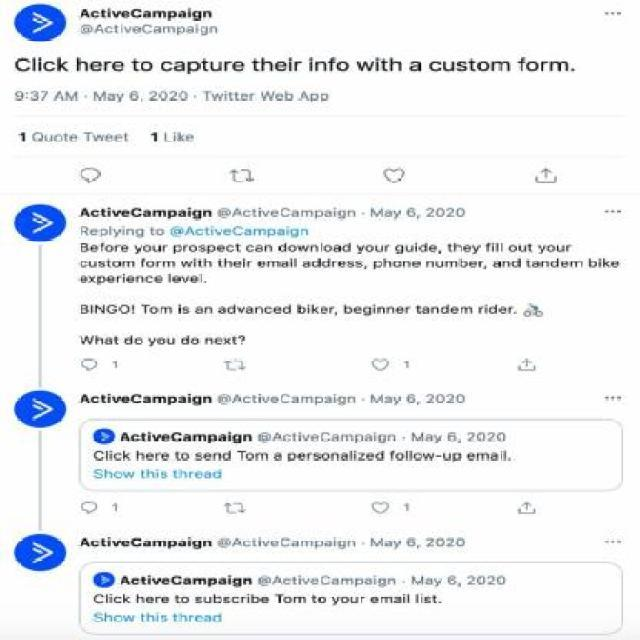0: (158, 91, 168, 100), (436, 538, 446, 547), (497, 432, 506, 441), (476, 576, 486, 584), (180, 91, 188, 100), (436, 208, 444, 217), (456, 208, 464, 217), (437, 394, 445, 403), (457, 394, 465, 403), (478, 432, 486, 441), (456, 538, 464, 547), (497, 576, 506, 584)
1: (20, 132, 26, 142), (151, 132, 157, 142), (111, 503, 118, 511), (114, 360, 118, 368), (404, 360, 408, 368), (404, 503, 408, 511)
2: (426, 536, 436, 547), (447, 394, 455, 404), (149, 91, 157, 100), (170, 91, 178, 100), (427, 208, 435, 217), (447, 208, 455, 217), (427, 394, 435, 403), (468, 432, 476, 441), (488, 432, 496, 441), (447, 538, 455, 547), (467, 576, 476, 584), (488, 576, 496, 584)
3: (31, 92, 38, 100)
6: (448, 432, 457, 442), (130, 91, 139, 100), (407, 208, 416, 217), (407, 394, 416, 403), (407, 538, 416, 547), (448, 576, 456, 584)
7: (40, 91, 49, 100)
9: (14, 90, 24, 102)
A: (172, 60, 185, 72), (409, 60, 422, 72), (270, 432, 284, 442), (78, 8, 91, 18), (78, 394, 91, 404), (78, 208, 91, 217), (119, 432, 130, 442), (184, 227, 196, 236), (53, 91, 64, 100), (232, 394, 242, 403), (299, 92, 310, 100), (79, 538, 90, 546), (120, 576, 131, 584), (233, 208, 242, 217), (142, 210, 152, 218), (142, 396, 152, 404), (142, 539, 152, 547), (182, 578, 192, 586), (232, 538, 242, 546), (178, 10, 187, 18), (178, 210, 187, 218), (244, 306, 253, 314), (104, 337, 113, 345), (178, 539, 187, 547), (218, 578, 227, 586), (95, 25, 104, 33), (273, 576, 282, 584), (153, 26, 161, 34), (187, 26, 195, 34), (108, 93, 116, 101), (292, 210, 300, 218), (324, 210, 332, 218), (384, 210, 392, 218), (244, 228, 252, 236), (277, 228, 285, 236), (280, 260, 288, 268), (302, 260, 310, 268), (493, 260, 501, 268), (532, 260, 540, 268), (195, 306, 203, 314), (218, 306, 226, 314), (178, 396, 186, 404), (290, 396, 298, 404), (384, 396, 392, 404), (183, 434, 191, 442), (218, 434, 226, 442), (364, 434, 372, 442), (425, 434, 433, 442), (274, 452, 282, 460), (490, 452, 498, 460), (292, 539, 300, 547), (324, 540, 332, 548), (384, 539, 392, 547), (364, 578, 372, 586), (424, 578, 432, 586), (394, 596, 402, 604), (203, 614, 211, 622), (142, 12, 152, 18), (255, 245, 263, 252), (333, 245, 341, 252), (422, 306, 429, 314), (332, 434, 339, 442), (341, 452, 348, 460), (204, 471, 212, 478), (332, 578, 339, 586), (324, 397, 332, 403)
B: (213, 593, 222, 604), (297, 304, 306, 314), (251, 594, 260, 604), (80, 304, 89, 314), (284, 91, 292, 100), (80, 243, 88, 252), (459, 258, 467, 267), (589, 258, 597, 267), (344, 304, 352, 313)
C: (15, 56, 30, 72), (42, 60, 56, 72), (159, 60, 173, 72), (428, 60, 442, 72), (130, 8, 142, 18), (130, 394, 142, 403), (170, 432, 182, 441), (130, 537, 142, 546), (279, 208, 290, 217), (232, 227, 243, 236), (280, 394, 291, 403), (94, 594, 105, 603), (142, 24, 152, 33), (132, 208, 142, 217), (319, 432, 330, 440), (279, 538, 290, 546), (320, 576, 331, 584), (94, 451, 103, 460), (78, 260, 88, 268), (144, 275, 154, 283), (282, 434, 292, 442), (242, 539, 252, 547), (282, 578, 292, 586), (172, 576, 182, 584), (91, 10, 100, 18), (104, 25, 113, 33), (91, 209, 100, 217), (264, 306, 273, 314), (90, 395, 99, 403), (131, 434, 140, 442), (113, 452, 122, 460), (91, 539, 100, 547), (131, 578, 140, 586), (231, 596, 240, 604), (243, 209, 251, 217), (242, 395, 250, 403), (114, 596, 122, 604), (194, 228, 203, 235), (226, 245, 234, 252), (246, 245, 254, 252)
D: (124, 334, 133, 346), (418, 242, 428, 252), (282, 304, 292, 314), (212, 612, 222, 622), (278, 242, 287, 252), (180, 334, 189, 344), (212, 469, 222, 478), (312, 258, 321, 267), (489, 304, 497, 314), (342, 243, 350, 252), (322, 258, 330, 267), (512, 258, 520, 267), (550, 258, 558, 267), (376, 451, 384, 460), (441, 304, 448, 314), (228, 304, 235, 313), (222, 452, 230, 459)
E: (274, 60, 288, 72), (112, 60, 125, 72), (232, 60, 245, 72), (90, 60, 102, 72), (232, 260, 242, 268), (78, 275, 88, 283), (126, 275, 136, 283), (144, 452, 154, 460), (121, 10, 130, 18), (105, 134, 114, 142), (114, 134, 123, 142), (184, 134, 193, 142), (121, 210, 130, 218), (190, 275, 199, 283), (214, 337, 223, 345), (121, 396, 130, 404), (161, 434, 170, 442), (161, 452, 170, 460), (121, 539, 130, 547), (240, 92, 248, 100), (275, 93, 283, 101), (70, 134, 78, 142), (270, 210, 278, 218), (223, 228, 231, 236), (258, 260, 266, 268), (338, 260, 346, 268), (412, 260, 420, 268), (560, 260, 568, 268), (612, 260, 620, 268), (154, 275, 162, 283), (274, 306, 282, 314), (320, 306, 328, 314), (354, 306, 362, 314), (396, 306, 404, 314), (498, 306, 506, 314), (270, 396, 278, 404), (310, 434, 318, 442), (204, 452, 212, 460), (298, 452, 306, 460), (367, 452, 375, 460), (468, 452, 476, 460), (270, 539, 278, 547), (162, 578, 170, 586), (310, 578, 318, 586), (145, 596, 153, 604), (162, 596, 170, 604), (260, 596, 268, 604), (217, 245, 226, 252), (468, 261, 478, 267), (90, 245, 98, 252), (120, 245, 128, 252), (429, 245, 437, 252), (464, 245, 472, 252), (451, 307, 458, 315), (371, 596, 378, 604), (195, 614, 202, 622), (106, 276, 115, 282), (195, 471, 202, 478), (132, 27, 140, 33), (90, 230, 98, 236), (172, 276, 180, 282)
F: (518, 56, 526, 72), (328, 58, 336, 72), (486, 242, 492, 252), (140, 258, 146, 267), (99, 242, 104, 252), (390, 450, 395, 459)
G: (232, 433, 242, 444), (107, 304, 118, 314), (134, 228, 144, 238), (192, 210, 202, 219), (290, 228, 299, 238), (232, 578, 242, 587), (200, 26, 208, 36), (364, 306, 372, 316), (192, 396, 200, 406), (338, 396, 346, 406), (378, 434, 386, 444), (192, 540, 202, 548), (192, 11, 200, 20), (338, 210, 346, 219), (338, 540, 346, 549), (378, 578, 386, 587), (395, 246, 403, 254)
H: (260, 58, 274, 72), (389, 58, 402, 72), (77, 58, 88, 72), (203, 258, 212, 267), (454, 242, 462, 252), (179, 612, 187, 622), (147, 612, 155, 622), (224, 258, 232, 267), (384, 258, 392, 267), (147, 469, 155, 478), (179, 469, 187, 478), (137, 594, 145, 603), (104, 613, 112, 622), (95, 336, 103, 344), (104, 470, 112, 478), (137, 452, 145, 459)
I: (288, 58, 292, 72), (310, 58, 313, 72), (376, 57, 379, 71), (414, 242, 418, 252), (122, 227, 126, 236), (598, 258, 602, 267), (122, 273, 126, 282), (484, 304, 488, 313), (402, 594, 406, 603), (38, 56, 40, 72), (173, 132, 176, 142), (194, 258, 197, 268), (110, 594, 113, 604), (91, 304, 94, 314), (120, 24, 123, 33), (224, 91, 227, 100), (333, 208, 336, 217), (211, 227, 214, 236), (243, 258, 246, 267), (290, 258, 293, 267), (307, 304, 310, 313), (373, 304, 376, 313), (373, 432, 376, 441), (110, 451, 113, 460), (353, 450, 356, 459), (333, 538, 336, 547), (247, 594, 250, 603), (420, 594, 423, 603), (333, 394, 336, 403), (148, 574, 150, 586), (188, 207, 190, 218), (286, 226, 288, 237), (108, 393, 110, 404), (228, 431, 230, 442), (108, 537, 110, 548), (108, 8, 110, 18), (188, 8, 190, 18), (156, 612, 158, 622), (108, 207, 110, 216), (258, 208, 260, 217), (492, 243, 494, 252), (178, 304, 180, 313), (188, 394, 190, 403), (148, 432, 150, 441), (156, 469, 158, 478), (188, 538, 190, 547), (258, 394, 260, 403), (196, 24, 198, 32), (298, 432, 300, 440), (258, 538, 260, 546), (228, 576, 230, 584), (298, 576, 300, 584), (374, 576, 376, 584), (500, 452, 502, 459)
K: (56, 58, 70, 72), (312, 304, 320, 314), (122, 451, 130, 460), (602, 258, 610, 267), (178, 132, 184, 142), (124, 594, 130, 603)
L: (164, 132, 172, 142), (32, 58, 36, 72), (500, 242, 503, 252), (294, 258, 297, 267), (503, 450, 506, 459), (105, 594, 108, 603), (407, 594, 410, 603), (105, 451, 108, 458), (320, 242, 322, 252), (496, 242, 498, 252), (110, 227, 112, 236), (168, 273, 170, 282), (200, 274, 202, 283), (350, 450, 352, 459), (416, 594, 418, 603), (406, 451, 408, 458), (410, 451, 412, 458)
M: (549, 60, 568, 72), (492, 60, 510, 72), (410, 432, 424, 442), (151, 10, 167, 18), (92, 91, 106, 100), (371, 208, 384, 217), (152, 210, 166, 218), (300, 210, 314, 218), (252, 228, 266, 236), (122, 260, 136, 268), (459, 306, 473, 314), (152, 395, 166, 403), (192, 434, 206, 442), (340, 434, 354, 442), (256, 452, 270, 460), (476, 452, 490, 460), (152, 539, 166, 547), (300, 540, 314, 548), (292, 596, 306, 604), (64, 92, 78, 100), (162, 260, 175, 268), (371, 395, 384, 403), (371, 538, 384, 546), (411, 577, 424, 585), (570, 260, 582, 268), (380, 596, 392, 604), (162, 26, 176, 32), (266, 261, 280, 267), (444, 261, 458, 267), (300, 397, 314, 403), (192, 578, 206, 584), (340, 578, 354, 584), (159, 307, 172, 313)
N: (314, 60, 328, 72), (95, 304, 104, 314), (202, 10, 212, 18), (203, 209, 212, 217), (243, 434, 252, 442), (243, 578, 252, 586), (210, 26, 218, 34), (348, 210, 356, 218), (300, 228, 308, 236), (402, 260, 410, 268), (502, 260, 510, 268), (135, 275, 143, 283), (255, 306, 263, 314), (377, 306, 385, 314), (387, 306, 395, 314), (205, 338, 213, 346), (203, 539, 211, 547), (202, 396, 212, 402), (310, 245, 318, 252), (205, 306, 212, 314), (432, 306, 439, 314), (126, 230, 134, 236), (264, 246, 272, 252), (426, 261, 434, 267), (542, 261, 550, 267), (348, 397, 356, 403), (388, 434, 396, 440), (213, 453, 221, 459), (348, 540, 356, 546), (388, 578, 396, 584), (332, 453, 339, 459)
O: (336, 60, 350, 72), (476, 60, 490, 72), (526, 60, 540, 72), (139, 62, 153, 72), (118, 304, 131, 314), (282, 596, 292, 604), (134, 337, 143, 345), (190, 338, 199, 346), (180, 452, 189, 460), (113, 614, 122, 622), (142, 245, 152, 252), (546, 245, 556, 252), (112, 260, 120, 268), (150, 306, 158, 314), (157, 337, 165, 345), (246, 452, 254, 460), (322, 452, 330, 460), (395, 452, 403, 460), (414, 452, 422, 460), (180, 596, 188, 604), (318, 596, 326, 604), (105, 245, 114, 252), (113, 471, 122, 478), (146, 261, 156, 267), (189, 245, 197, 252), (324, 245, 332, 252), (365, 245, 373, 252), (341, 596, 348, 604), (53, 134, 62, 140), (156, 228, 164, 234), (288, 246, 296, 252), (508, 246, 516, 252), (393, 261, 401, 267)
P: (188, 61, 200, 74), (208, 434, 218, 443), (288, 452, 297, 462), (168, 11, 177, 20), (168, 210, 177, 219), (100, 228, 108, 238), (268, 228, 276, 238), (452, 454, 462, 462), (310, 93, 318, 102), (315, 210, 323, 219), (374, 260, 382, 269), (97, 276, 106, 284), (168, 397, 177, 405), (354, 434, 362, 443), (168, 540, 177, 548), (208, 578, 217, 586), (355, 578, 363, 587), (174, 246, 182, 254), (315, 397, 323, 405), (315, 540, 323, 548), (321, 93, 328, 102), (208, 244, 215, 253), (178, 27, 185, 35)
Q: (32, 132, 43, 142)
R: (104, 60, 112, 72), (224, 60, 232, 72), (294, 60, 302, 72), (540, 60, 548, 72), (80, 227, 89, 236), (250, 93, 256, 101), (246, 260, 252, 268), (478, 260, 484, 268), (306, 452, 312, 460), (240, 596, 246, 604), (188, 471, 194, 478), (156, 260, 161, 268), (116, 275, 121, 283), (330, 306, 335, 314), (405, 306, 410, 314), (479, 306, 484, 314), (509, 306, 514, 314), (155, 452, 160, 460), (162, 246, 168, 252), (384, 246, 390, 252), (566, 246, 572, 252), (188, 616, 194, 622), (183, 245, 188, 252), (332, 261, 337, 267), (155, 597, 160, 603), (360, 597, 365, 603), (115, 245, 119, 252)
S: (455, 60, 468, 72), (93, 469, 102, 478), (94, 613, 103, 622), (222, 596, 232, 604), (98, 260, 106, 268), (347, 260, 355, 268), (355, 260, 363, 268), (182, 306, 190, 314), (313, 452, 321, 460), (423, 596, 431, 604), (160, 614, 168, 622), (198, 245, 206, 252), (195, 452, 202, 460), (160, 471, 168, 478), (195, 596, 202, 604)
T: (468, 58, 476, 72), (132, 59, 140, 72), (200, 59, 208, 72), (252, 58, 260, 71), (381, 59, 388, 72), (83, 132, 92, 142), (141, 304, 150, 314), (274, 594, 284, 603), (203, 91, 212, 100), (236, 452, 247, 459), (204, 227, 210, 236), (100, 10, 106, 18), (113, 25, 119, 33), (234, 92, 240, 100), (100, 208, 106, 216), (252, 208, 258, 216), (446, 244, 452, 252), (216, 259, 222, 267), (526, 259, 532, 267), (231, 336, 237, 344), (100, 395, 106, 403), (141, 433, 147, 441), (141, 577, 147, 585), (174, 595, 180, 603), (174, 452, 180, 459), (172, 471, 178, 478), (229, 92, 234, 100), (124, 132, 128, 142), (150, 227, 155, 235), (235, 244, 240, 252), (106, 259, 111, 267), (415, 305, 420, 313), (252, 395, 257, 403), (292, 433, 297, 441), (252, 538, 257, 546), (292, 577, 297, 585), (432, 595, 437, 603), (173, 614, 178, 622), (140, 470, 145, 478), (64, 133, 68, 141), (528, 244, 532, 252), (198, 259, 202, 267), (114, 336, 118, 344), (101, 538, 105, 546), (312, 595, 316, 603), (141, 614, 144, 622)
U: (210, 60, 222, 72), (442, 62, 455, 72), (204, 596, 212, 604), (153, 245, 161, 252), (518, 245, 526, 252), (374, 246, 382, 252), (405, 246, 413, 252), (557, 246, 565, 252), (88, 261, 96, 267), (435, 261, 443, 267), (167, 338, 175, 344), (443, 453, 451, 459), (350, 597, 358, 603), (46, 134, 51, 140)
V: (150, 434, 162, 442), (214, 228, 223, 236), (112, 10, 120, 18), (112, 209, 120, 217), (182, 275, 190, 283), (112, 396, 120, 404), (302, 434, 310, 442), (112, 539, 120, 547), (152, 578, 160, 586), (302, 578, 310, 586), (238, 307, 245, 315), (124, 27, 132, 33), (262, 211, 270, 217), (262, 397, 270, 403), (262, 541, 270, 547)
W: (356, 60, 374, 72), (79, 334, 95, 346), (260, 91, 276, 100), (122, 614, 136, 622), (210, 93, 223, 101), (92, 134, 105, 142), (296, 245, 310, 252), (122, 471, 136, 478), (422, 453, 435, 459), (180, 261, 192, 267)
X: (88, 275, 96, 283), (223, 337, 231, 345)
Y: (133, 244, 142, 256), (538, 243, 546, 254), (434, 434, 442, 444), (115, 93, 123, 102), (357, 244, 365, 253), (148, 337, 156, 346), (393, 210, 401, 219), (434, 578, 442, 587), (332, 596, 339, 606), (472, 246, 480, 254), (113, 229, 121, 237), (393, 397, 401, 405), (393, 540, 401, 548)
Z: (358, 452, 366, 460)
